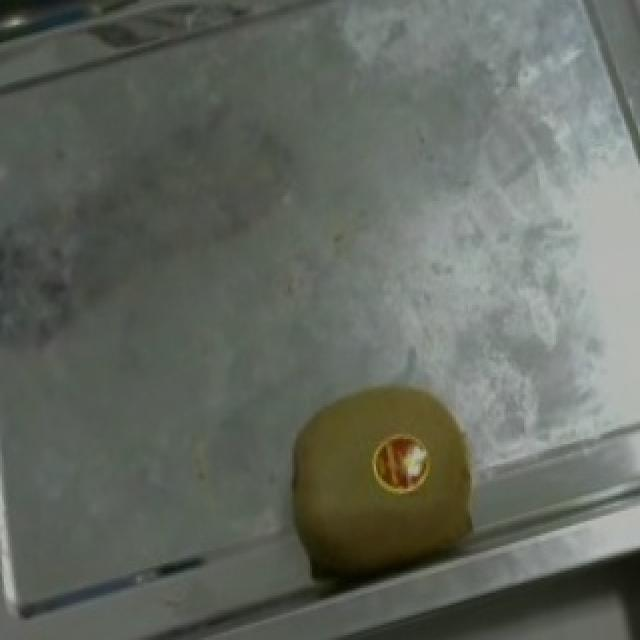Fruit: (254, 344, 516, 628)
